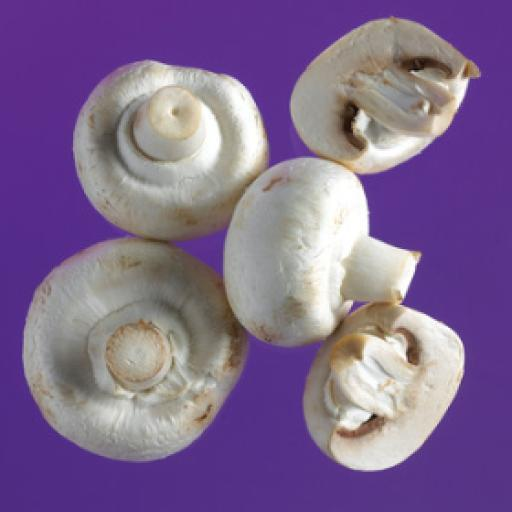mushroom: (19, 237, 247, 470), (65, 46, 274, 246), (219, 153, 412, 337), (282, 11, 482, 173), (293, 303, 473, 475)
